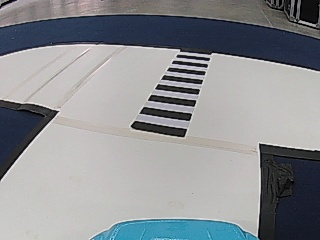CrossWalk: (130, 55, 208, 134)
